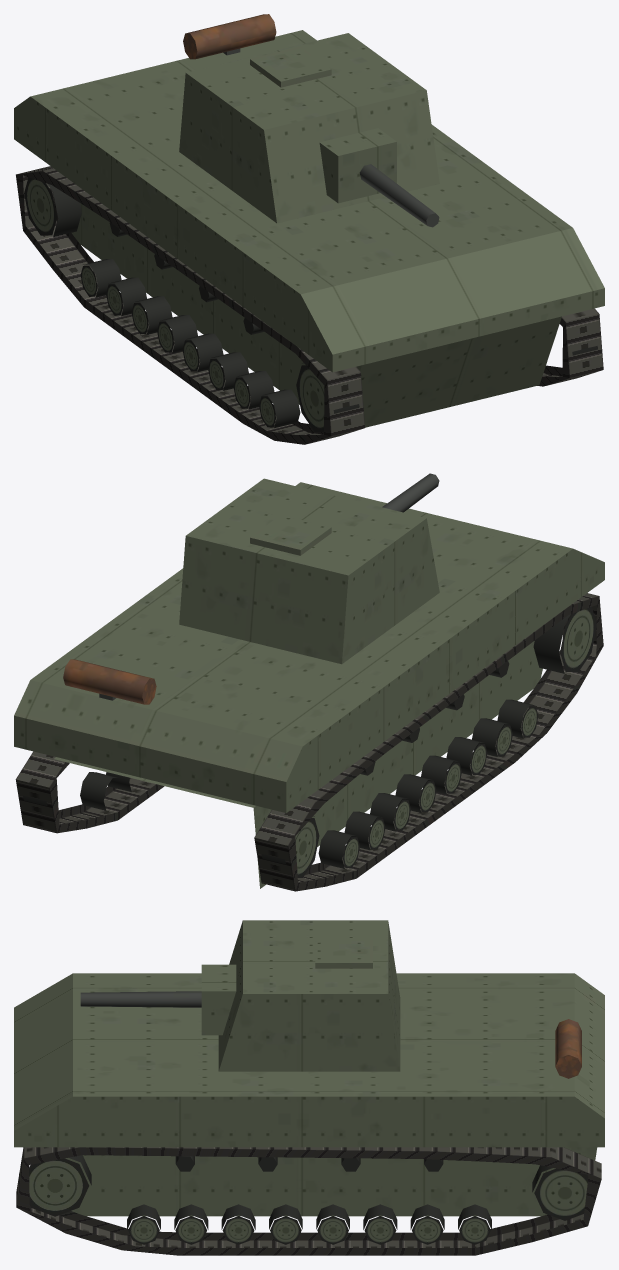
File: armor-1.glb
The picture shows the model from 3 angles, top to bottom: view 1: azimuth 30°, elevation 25°; view 2: azimuth 150°, elevation 25°; view 3: azimuth 270°, elevation 25°; orthographic projection. The views are drawn at different scales.
Visible parts, largest first — view 1: hull, turret, tracks_right, gun, tracks_left, roue_folle_right, hatch, barbotin_right, galet_right_8, galet_right_1, galet_right_2, galet_right_7 (+4 smaller); view 2: hull, turret, tracks_right, tracks_left, barbotin_right, hatch, galet_right_1, galet_right_8, galet_right_5, galet_right_6, galet_right_2, galet_right_4 (+5 smaller); view 3: hull, turret, tracks_left, gun, barbotin_left, roue_folle_left, hatch, galet_left_3, galet_left_6, galet_left_2, galet_left_7, galet_left_1 (+3 smaller).
Part boxes in pixels (left/top/right/bottom): hull: left=14, top=14, right=604, bottom=427; turret: left=179, top=33, right=439, bottom=223; tracks_right: left=16, top=166, right=364, bottom=444; gun: left=319, top=128, right=439, bottom=227; tracks_left: left=537, top=308, right=603, bottom=386; roue_folle_right: left=24, top=177, right=81, bottom=236; hatch: left=250, top=46, right=331, bottom=87; barbotin_right: left=296, top=362, right=359, bottom=431; galet_right_8: left=259, top=389, right=300, bottom=428; galet_right_1: left=80, top=259, right=121, bottom=297; galet_right_2: left=106, top=277, right=146, bottom=316; galet_right_7: left=233, top=371, right=274, bottom=409; hull: left=14, top=482, right=604, bottom=888; turret: left=179, top=478, right=439, bottom=664; tracks_right: left=254, top=593, right=603, bottom=891; tracks_left: left=15, top=751, right=164, bottom=833; barbotin_right: left=533, top=607, right=596, bottom=673; hatch: left=250, top=515, right=331, bottom=555; galet_right_1: left=318, top=830, right=359, bottom=868; galet_right_8: left=497, top=699, right=538, bottom=738; galet_right_5: left=421, top=755, right=461, bottom=794; galet_right_6: left=446, top=737, right=487, bottom=775; galet_right_2: left=344, top=811, right=385, bottom=850; galet_right_4: left=395, top=774, right=436, bottom=812; hull: left=14, top=973, right=604, bottom=1216; turret: left=218, top=920, right=400, bottom=1071; tracks_left: left=16, top=1147, right=601, bottom=1255; gun: left=80, top=964, right=236, bottom=1035; barbotin_left: left=19, top=1155, right=91, bottom=1216; roue_folle_left: left=532, top=1165, right=588, bottom=1220; hatch: left=315, top=940, right=372, bottom=968; galet_left_3: left=363, top=1204, right=397, bottom=1244; galet_left_6: left=221, top=1204, right=255, bottom=1244; galet_left_2: left=410, top=1204, right=444, bottom=1244; galet_left_7: left=174, top=1204, right=208, bottom=1244; galet_left_1: left=458, top=1204, right=491, bottom=1244.
Bounding box in the file's own units: 2.41 × 2.21 × 4.88.
Materials: 5 (5 with a texture image).
